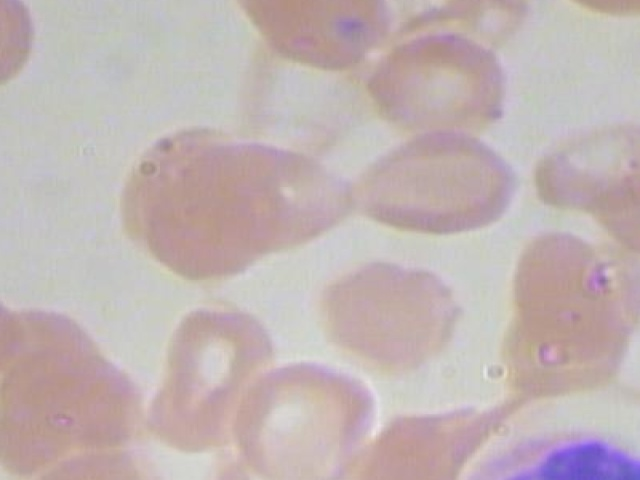RBC: (120, 142, 298, 286), (133, 291, 284, 455), (341, 120, 522, 243), (216, 357, 389, 480), (347, 23, 524, 142), (304, 251, 469, 373), (219, 0, 401, 70), (523, 115, 640, 213), (576, 161, 640, 257), (0, 275, 33, 394), (0, 0, 39, 95)
WBC: (453, 426, 640, 480)
